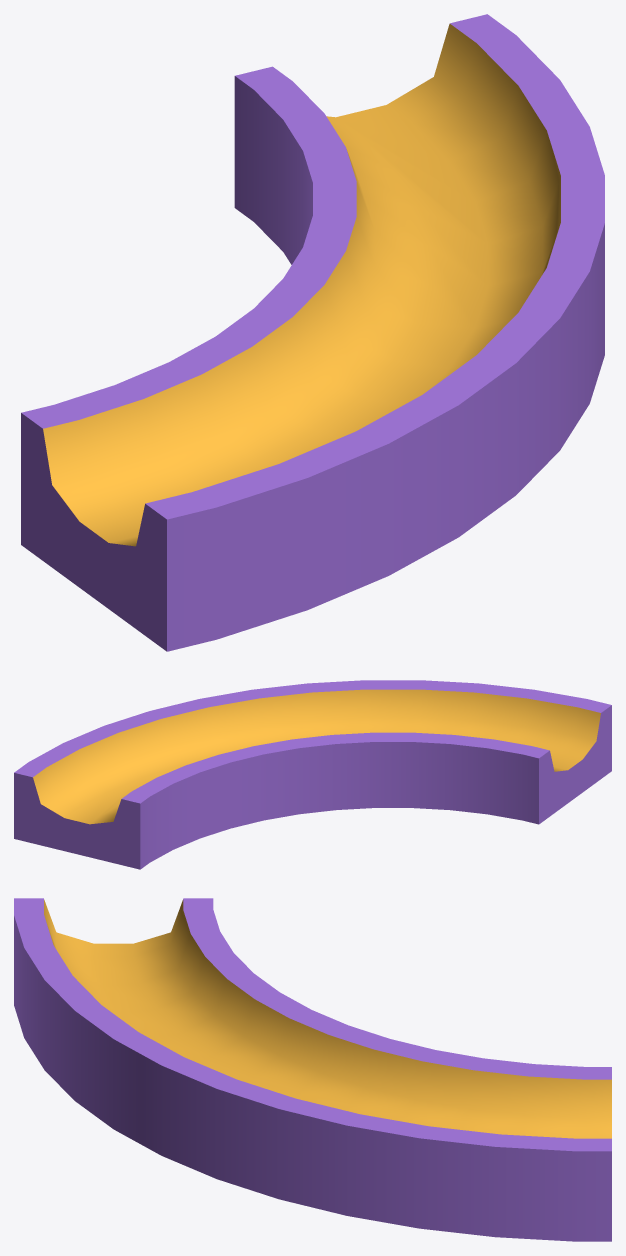
The model's file is curve-large-col.glb.
3 views of the same model, one above another, from view 1: azimuth 30°, elevation 25°; view 2: azimuth 150°, elevation 25°; view 3: azimuth 270°, elevation 25° (orthographic). The views are drawn at different scales.
Parts seen in each view (by area): view 1: curve-large-col; view 2: curve-large-col; view 3: curve-large-col.
Boxes of the visible parts, x1,y1,x2,y2 form: curve-large-col: (21,14,604,651); curve-large-col: (14,680,611,869); curve-large-col: (14,898,611,1241).
Size of the model in its own units: 3 by 0.5 by 3.
1 material, 1 textured.
